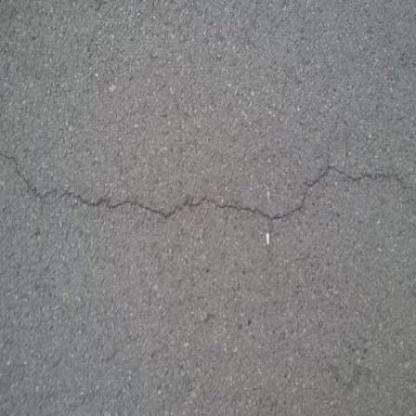Cracks: (0, 112, 416, 249)
